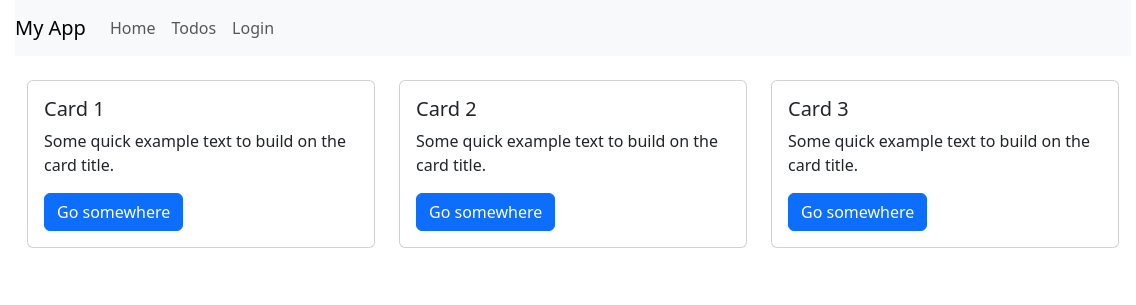
Test: Full Application Test Suite › should navigate to Login page
What coordinates should you click on to do the following:
click the link "Login"
I would click on:
 (253, 28)
Its box is [232,17,274,39].
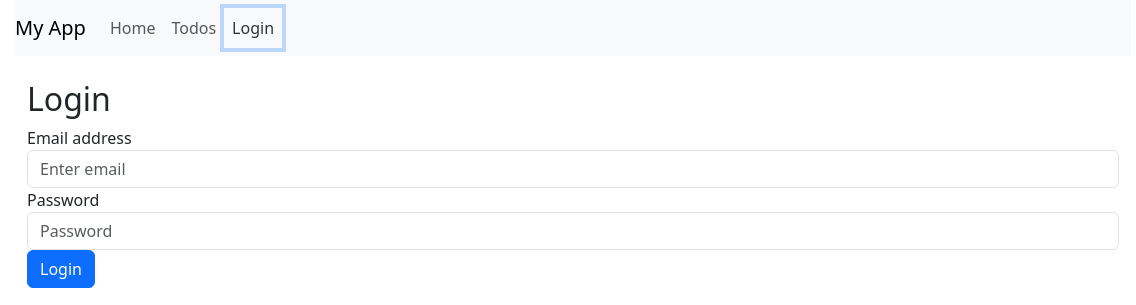
Check: the heading "Login" is shown, box [27,77,111,120]
